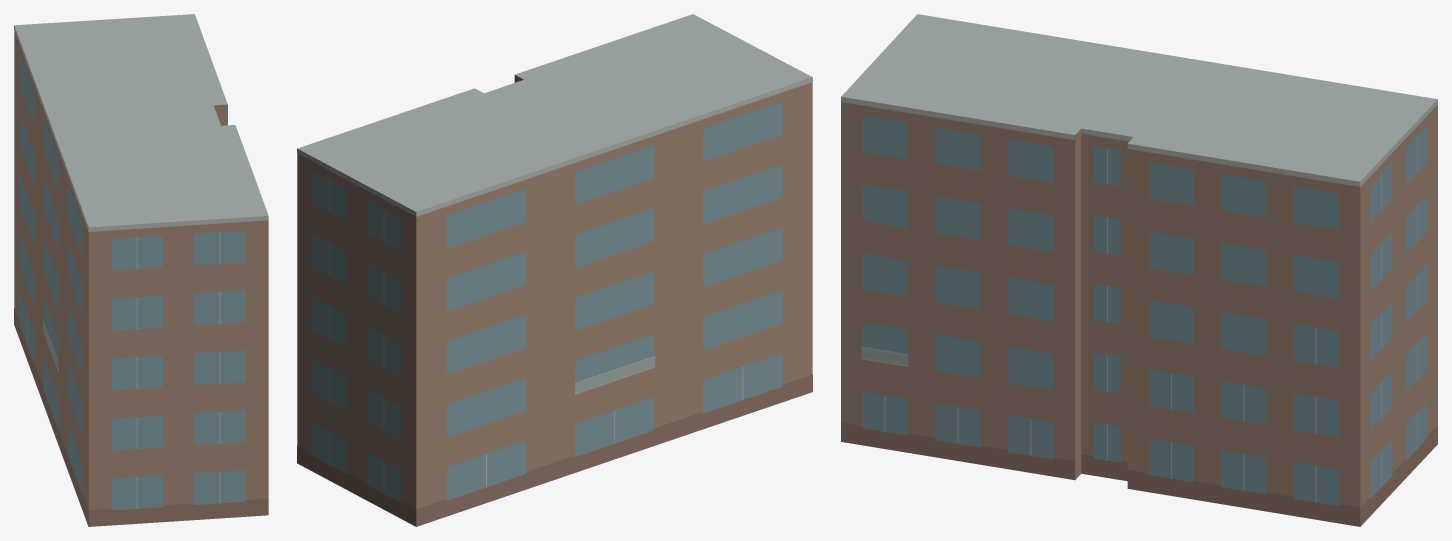
File: survey-upis-32581034.glb
3 views of the same model, side by side, from view 1: azimuth 30°, elevation 25°; view 2: azimuth 150°, elevation 25°; view 3: azimuth 270°, elevation 25° (orthographic). The views are drawn at different scales.
Parts seen in each view (by area): view 1: survey-upis-32581034.tmp; view 2: survey-upis-32581034.tmp; view 3: survey-upis-32581034.tmp.
Part boxes in pixels (x1,y1,x2,y2): survey-upis-32581034.tmp: [14, 14, 268, 526]; survey-upis-32581034.tmp: [297, 14, 812, 526]; survey-upis-32581034.tmp: [841, 14, 1437, 526].
Bounding box in the file's own units: 16.69 × 16 × 25.08.
